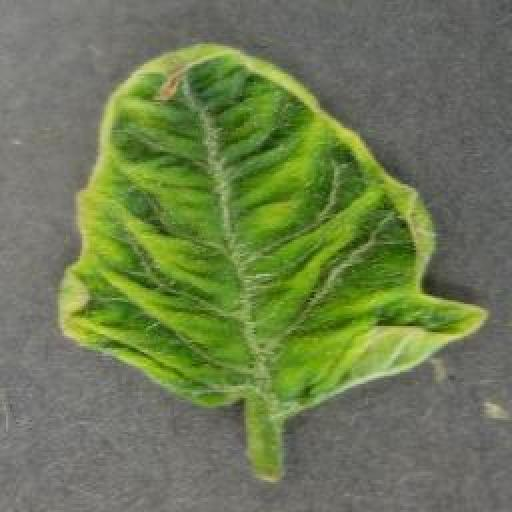Yellow Leaf Curl Virus: (55, 44, 488, 419)
